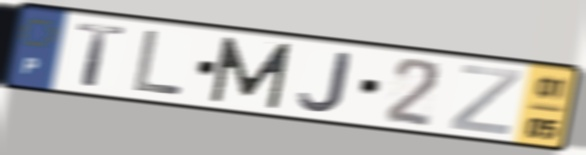2: (380, 56, 443, 129)
J: (296, 50, 353, 114)
L: (130, 27, 186, 98)
M: (207, 34, 295, 111)
T: (74, 20, 130, 89)
Z: (446, 62, 525, 138)
